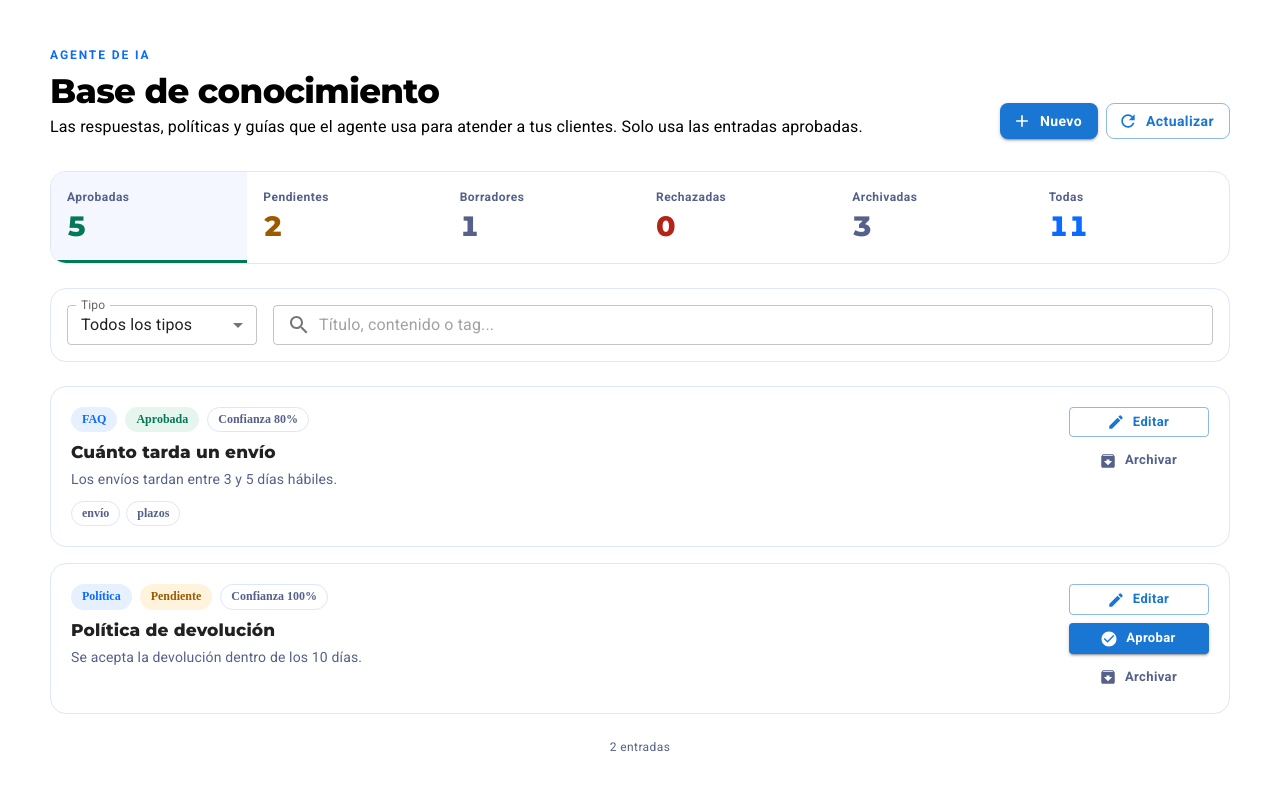
Test case: Conocimiento · acciones según el estado › aprobar manda el id y avisa
Step 1. Click the button "Aprobar" → (1139, 638), box [1069,623,1209,654]
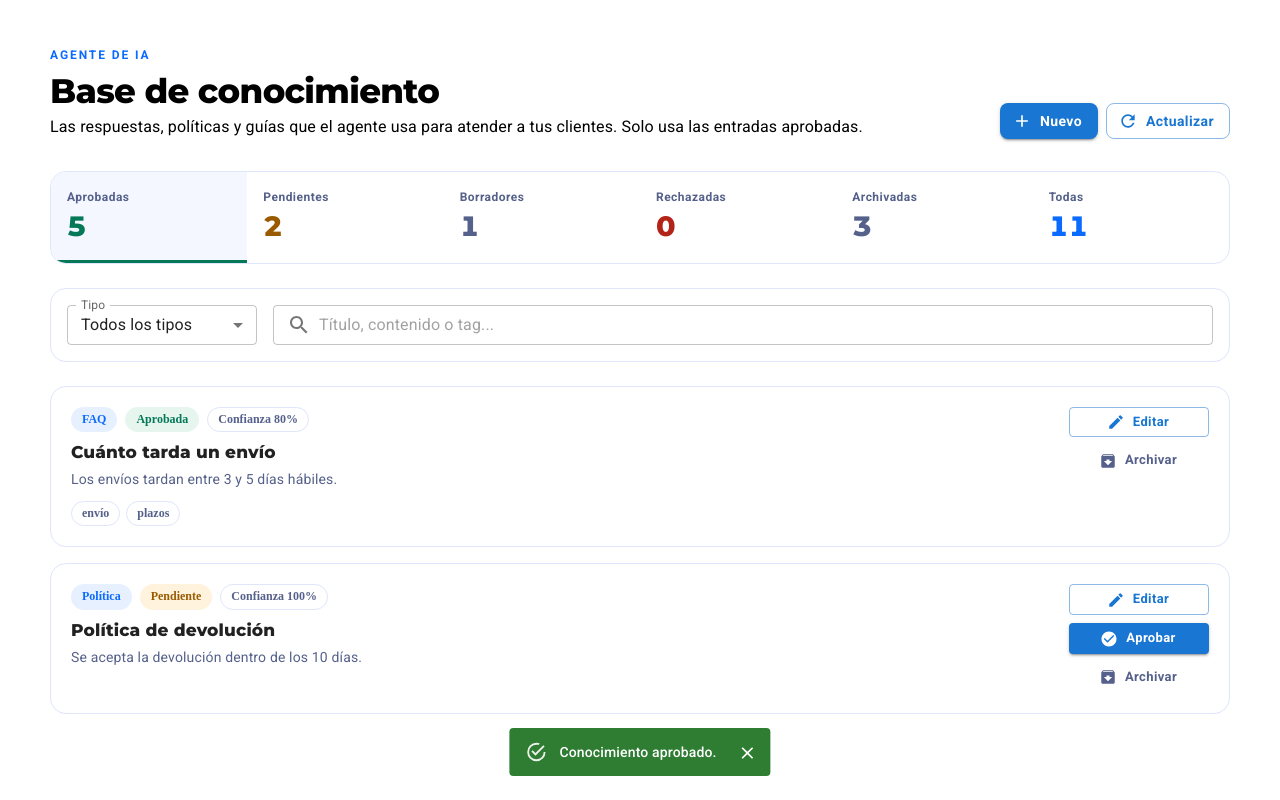
Expected: the text "Conocimiento aprobado." is shown, [559,744,717,760]
